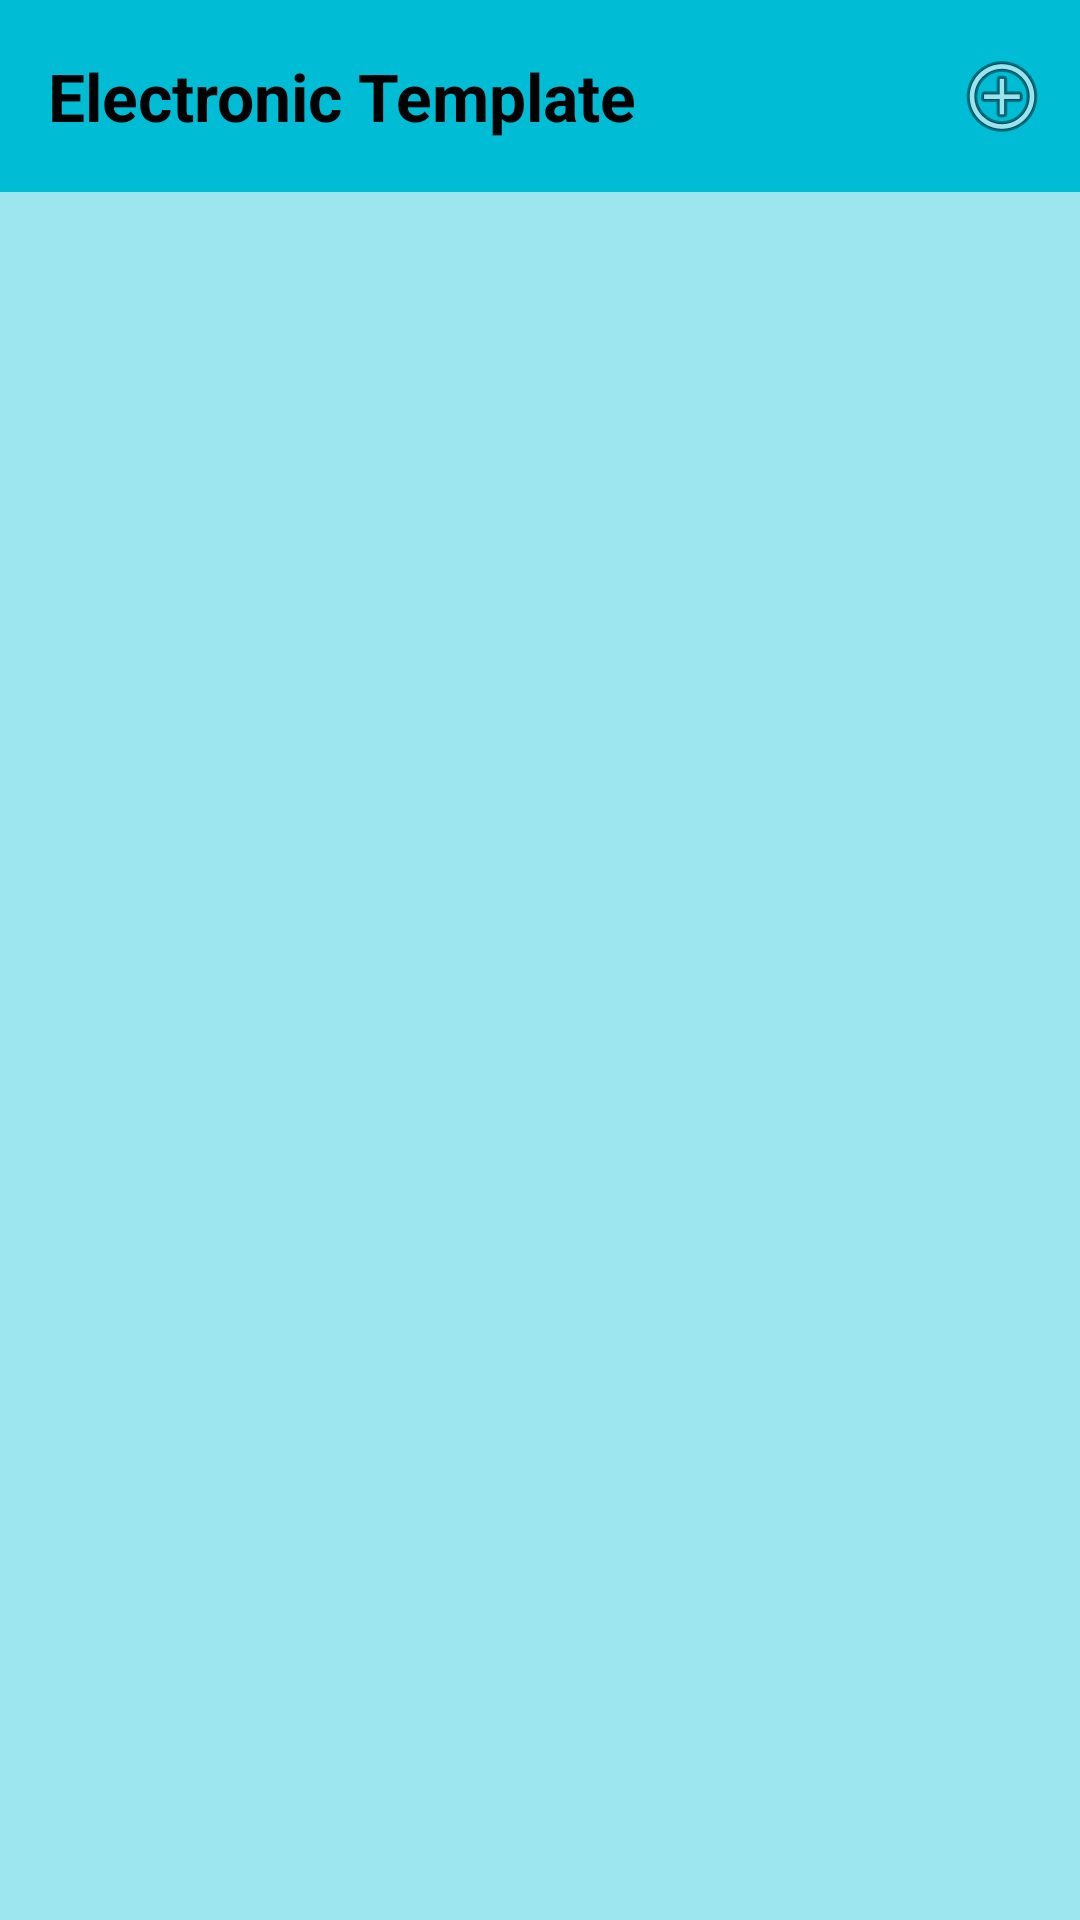

Named icons in this screenshot (1080x1920) and their centers, [x,y]:
add: [1002,96]
